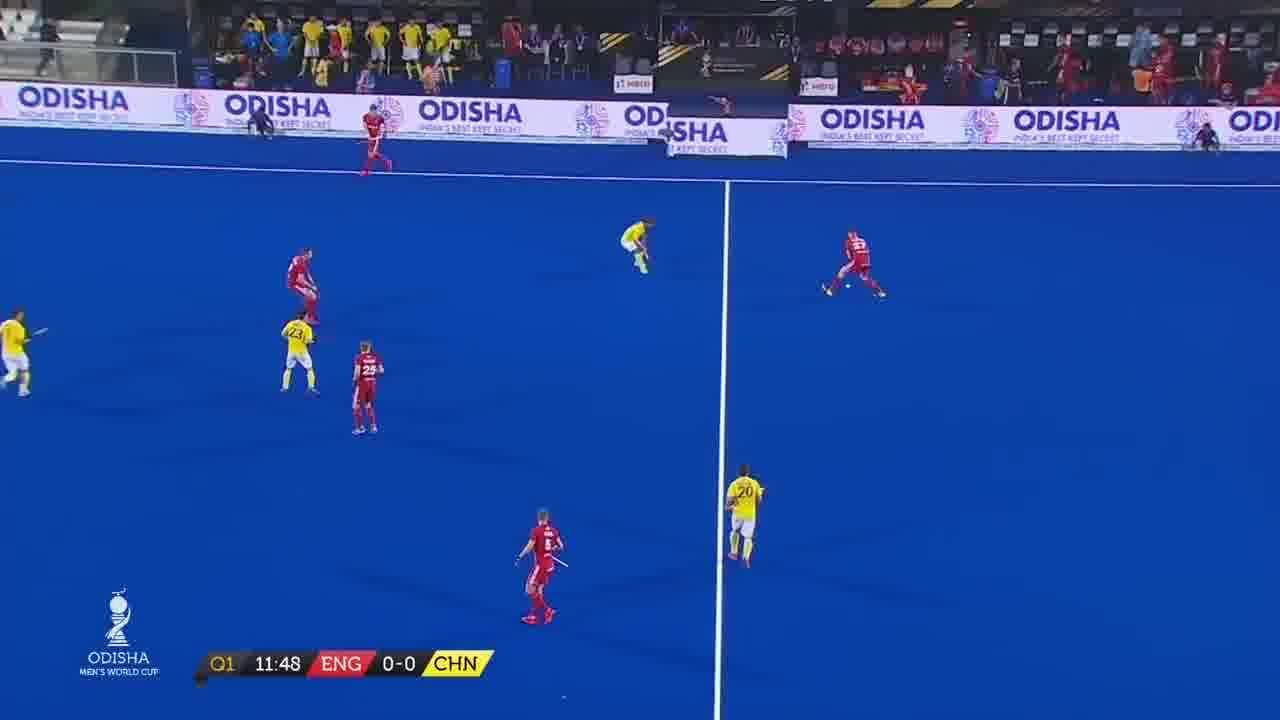ball: (844, 281, 851, 291)
